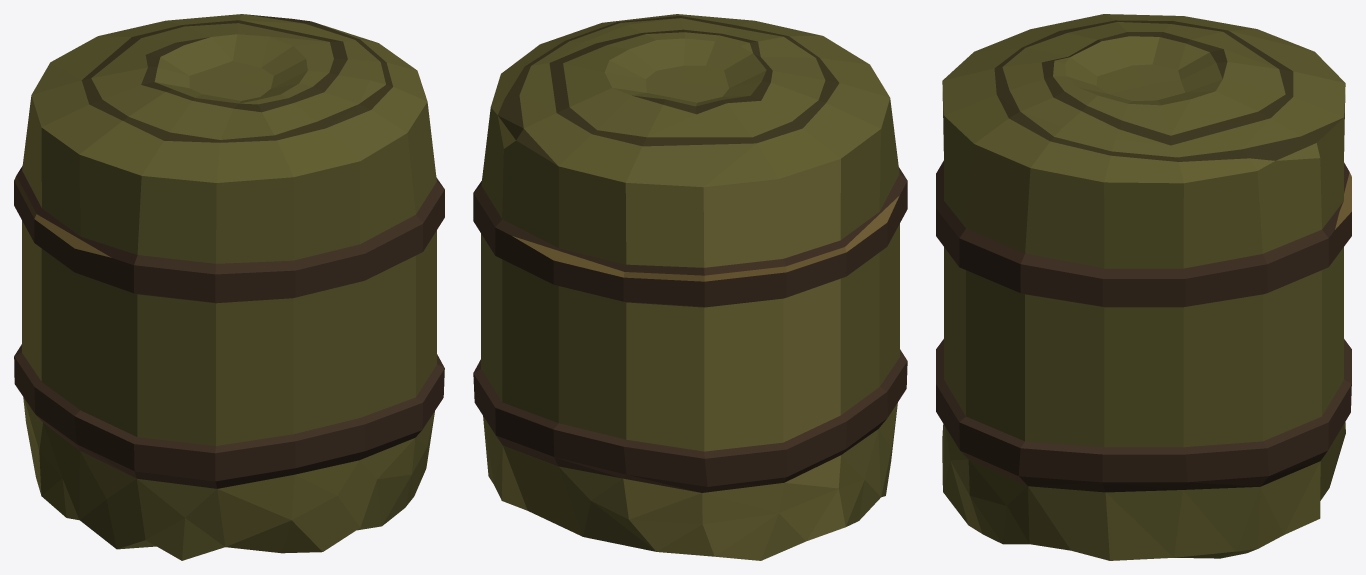
Rendered from EA_M_HayBale_Green_01c.fbx.
The picture shows the model from 3 angles, left to right: view 1: azimuth 30°, elevation 25°; view 2: azimuth 150°, elevation 25°; view 3: azimuth 270°, elevation 25°; orthographic projection. The views are drawn at different scales.
Visible parts, largest first — view 1: EA_M_HayBale_Green_01c_LOD0; view 2: EA_M_HayBale_Green_01c_LOD0; view 3: EA_M_HayBale_Green_01c_LOD0.
Part boxes in pixels (bbox=[...]): EA_M_HayBale_Green_01c_LOD0: bbox=[14, 14, 444, 560]; EA_M_HayBale_Green_01c_LOD0: bbox=[473, 14, 907, 560]; EA_M_HayBale_Green_01c_LOD0: bbox=[936, 14, 1351, 560].
Size of what is drawn, in the model's own units: 1.99 by 2.33 by 1.99.
